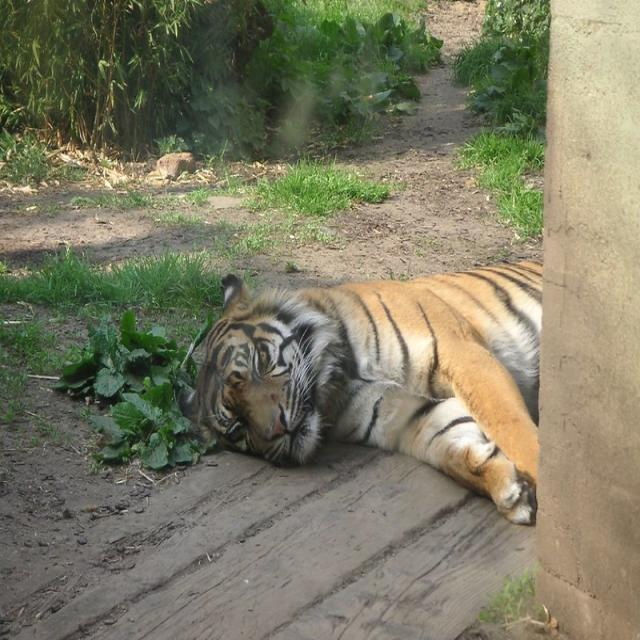Tiger: (171, 255, 541, 527)
